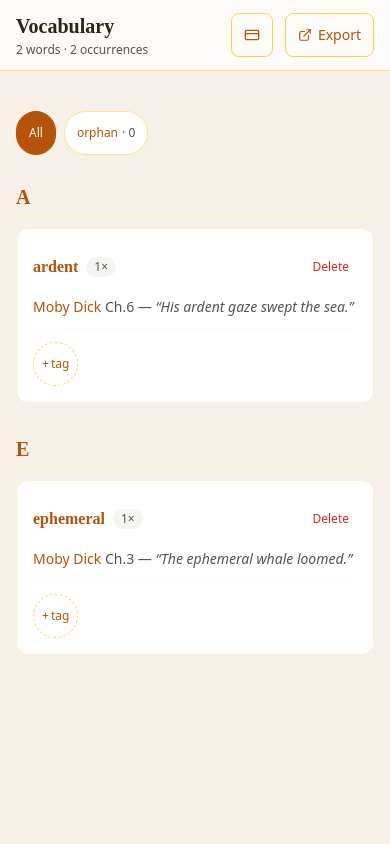
it: shows a tag-specific empty state message when filter matches nothing
Check: the button "ephemeral" is shown, box [33,497,105,541]
Click the button with test id "tag-filter-orphan". click: (106, 133)
box: [64,111,148,155]
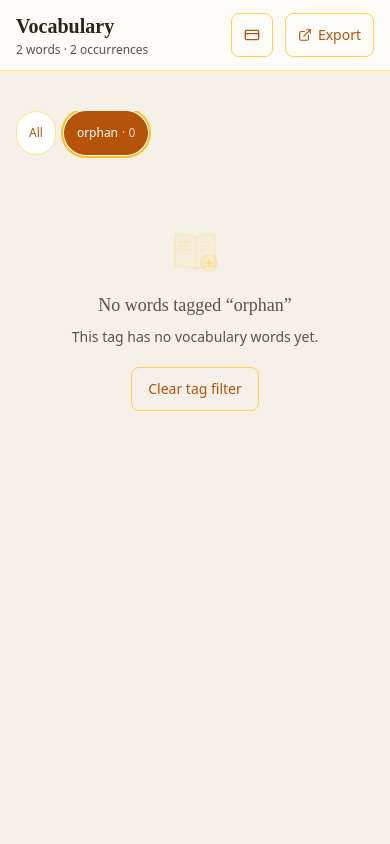
Check: the text "No words tagged “orphan”" is shown, box [98,291,292,319]
